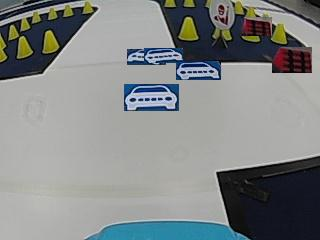evil: (207, 0, 235, 30)
